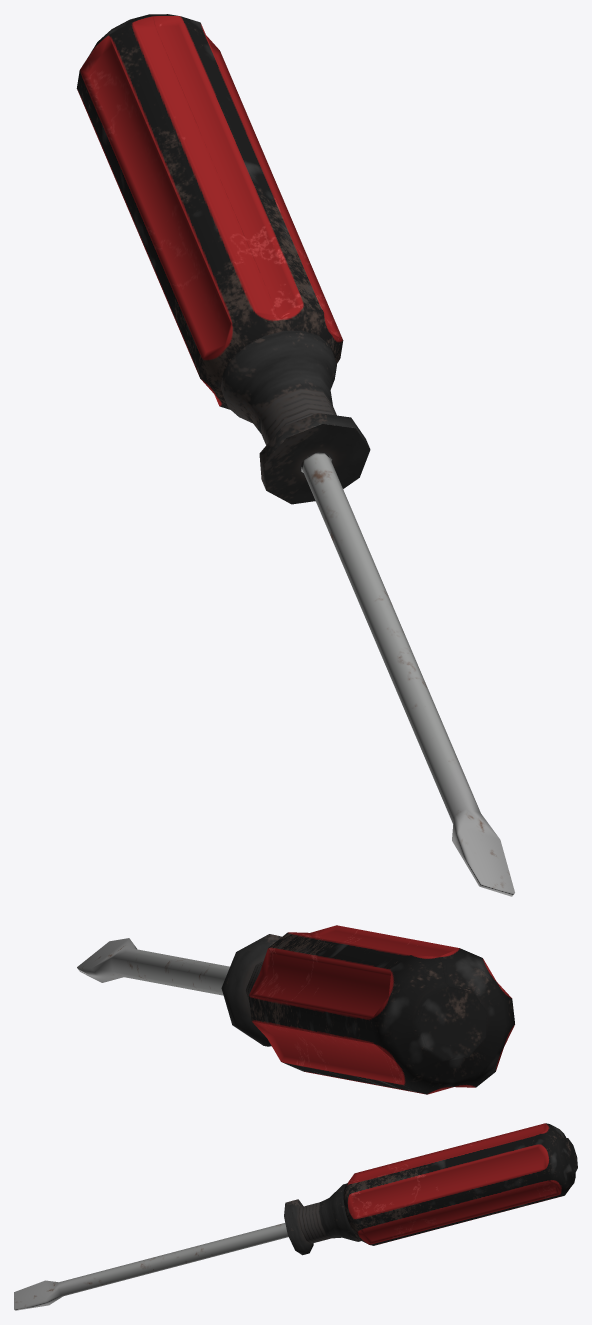
File: flathead_screwdriver.glb
The picture shows the model from 3 angles, top to bottom: view 1: azimuth 30°, elevation 25°; view 2: azimuth 210°, elevation 25°; view 3: azimuth 270°, elevation 25°; orthographic projection. The views are drawn at different scales.
Parts seen in each view (by area): view 1: FlatheadScrewdriver_0; view 2: FlatheadScrewdriver_0; view 3: FlatheadScrewdriver_0.
Boxes of the visible parts, x1,y1,x2,y2 form: FlatheadScrewdriver_0: [76, 14, 514, 896]; FlatheadScrewdriver_0: [77, 925, 514, 1094]; FlatheadScrewdriver_0: [14, 1123, 577, 1310].
Size of the model in its own units: 0.0519 by 0.0816 by 0.1859.
Materials: 1 (1 with a texture image).
